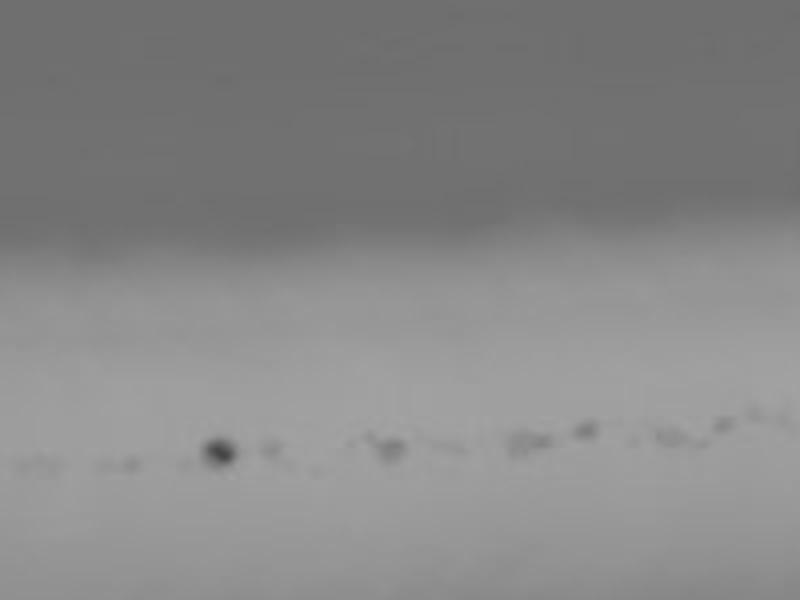defect: (202, 433, 234, 465), (501, 425, 532, 456), (653, 422, 687, 448), (377, 435, 403, 468), (257, 434, 287, 461), (37, 450, 63, 478), (568, 416, 596, 442), (304, 456, 333, 480), (436, 437, 472, 456), (121, 454, 146, 478), (709, 412, 733, 437), (98, 456, 119, 480), (742, 397, 763, 420), (623, 431, 644, 452), (335, 436, 357, 456), (358, 424, 380, 442), (688, 434, 710, 451), (532, 432, 553, 449)
